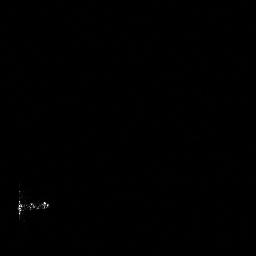ship: (13, 195, 52, 223)
